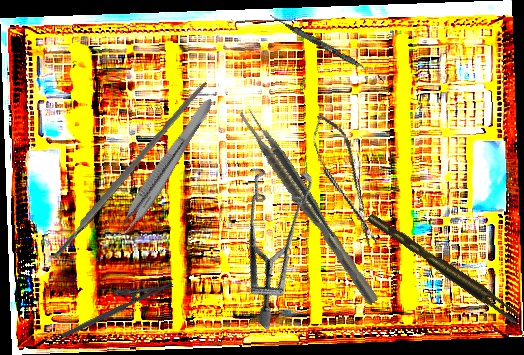Micro Scissor: (305, 108, 386, 254)
Needle Holder: (54, 267, 174, 339)
Scalpel Handle: (50, 78, 210, 260)
Spatula Surgical: (267, 13, 387, 82)
Speculum: (178, 143, 362, 331)
Tissue Forceps: (236, 104, 380, 310), (366, 205, 522, 329), (107, 91, 217, 247)
